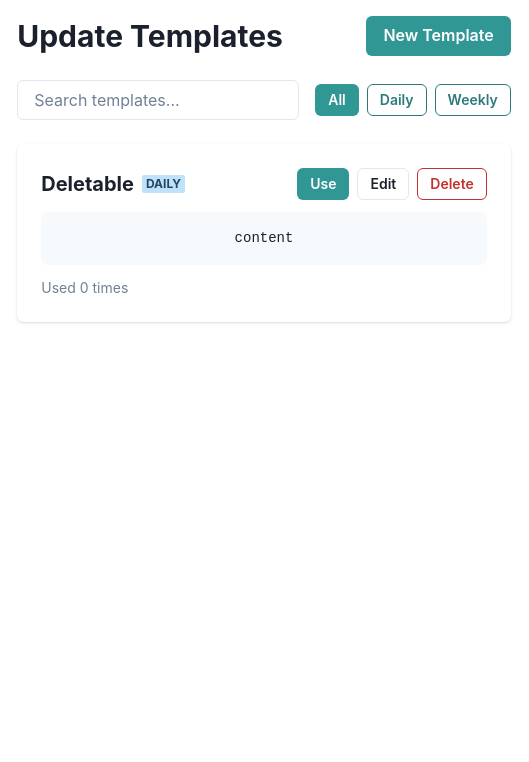
Scenario: Templates page › deletes a template and shows a success toast
Expected: the heading "Deletable" is shown, [41,172,134,196]
Click the button "Delete" at (452, 184), box [417,168,487,200]
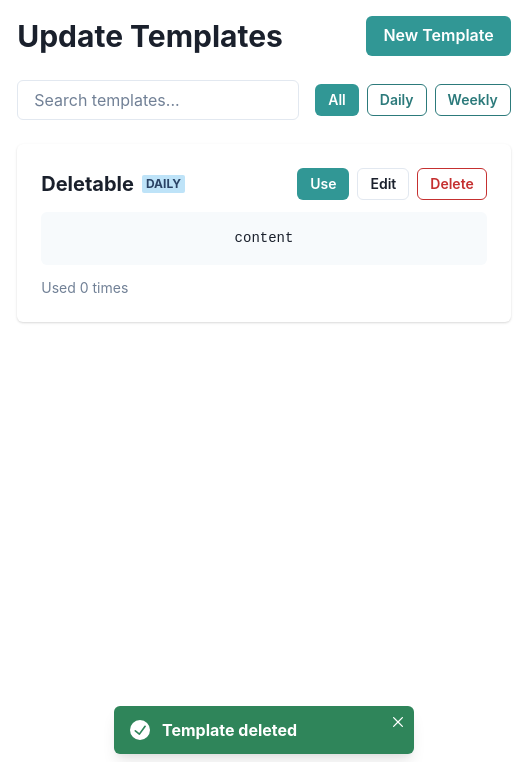
Expected: the text "Template deleted" is shown, [162,720,297,740]
